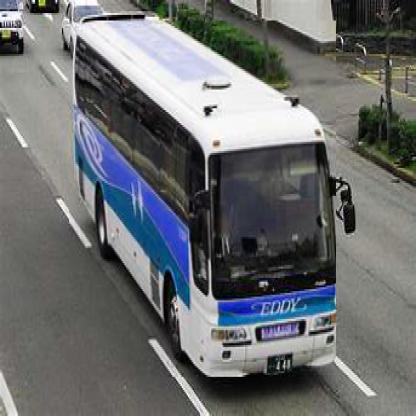bus: (70, 22, 338, 380)
